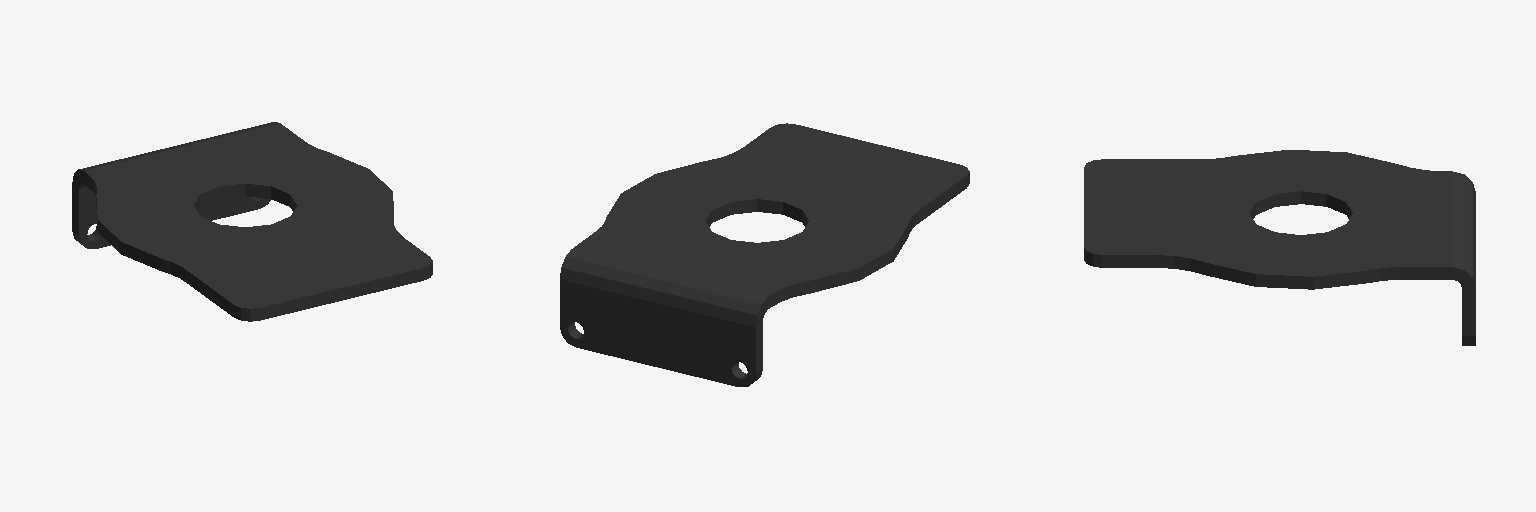
Rendered from Elbow_Bracket_01_1_mesh_0.obj.
3 renders of one model, left to right at view 1: azimuth 30°, elevation 25°; view 2: azimuth 150°, elevation 25°; view 3: azimuth 270°, elevation 25°, orthographic.
Bounding box in the file's own units: 0.0319 × 0.01 × 0.0415.